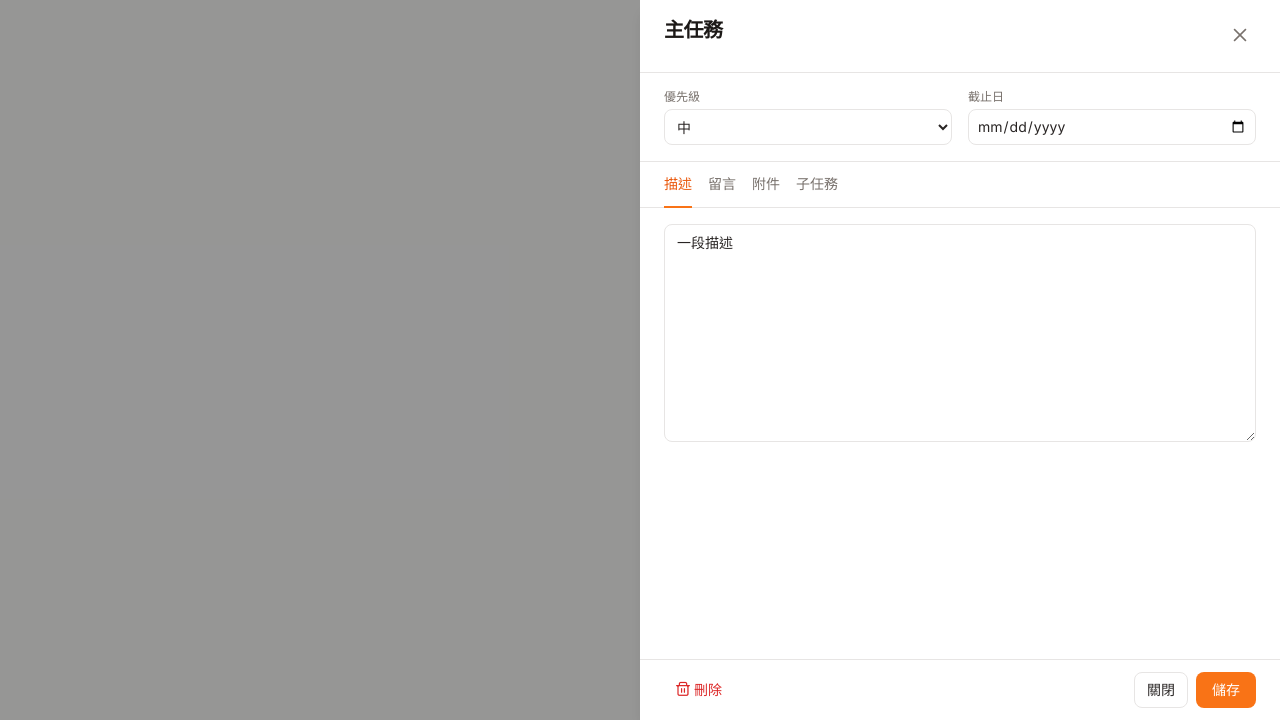
Test: TaskDrawer › 「子任務」Tab：渲染 store 中 parent_task 為當前 task 的子任務
Click the button with test id "tab-btn-subtasks" at (817, 185), box [796,162,838,208]
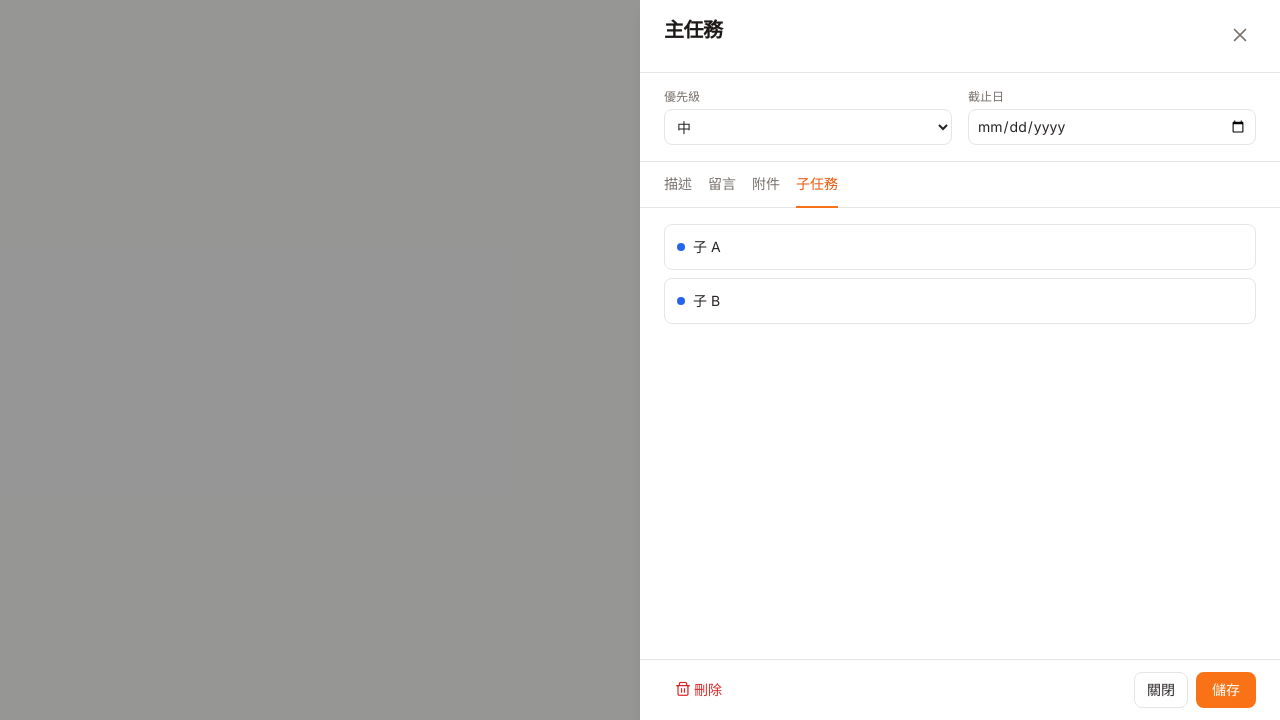
Check: the text "子 A" is shown, box [693,238,721,255]
Check: the text "子 B" is shown, box [693,292,720,309]
